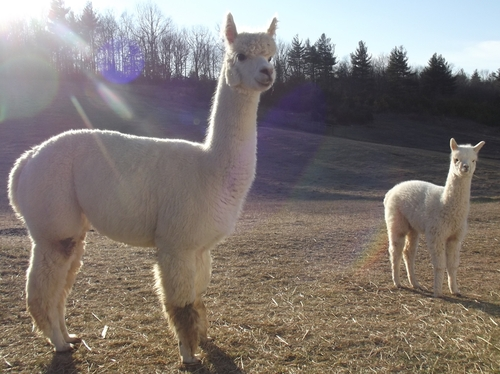alpaca: (7, 12, 280, 366), (383, 137, 484, 299)
